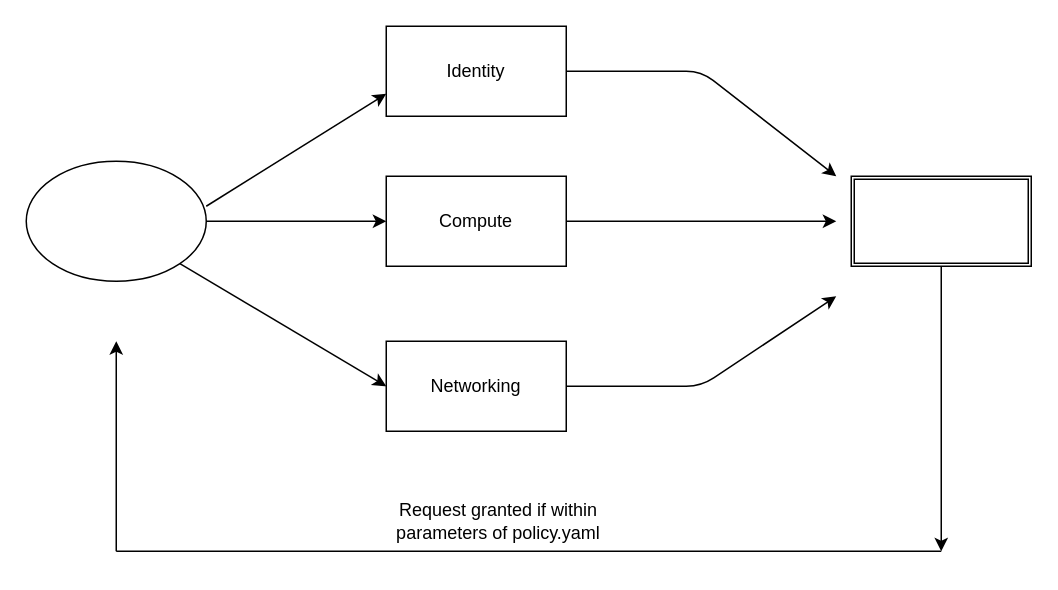
This 1058x590 diagram has some shape labels left out. The centre of each missing label's shape, as x and y in pixels:
"Policy.yaml" belongs at point (940, 220).
"User" belongs at point (115, 220).
